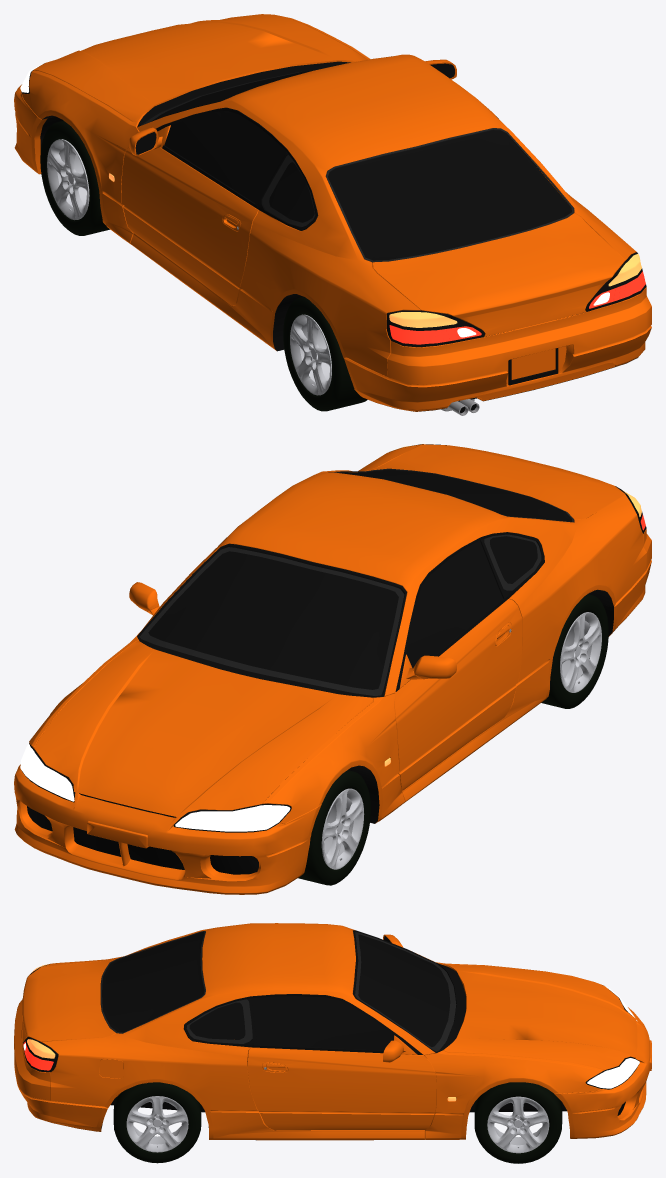
3 views of the same model, one above another, from view 1: azimuth 30°, elevation 25°; view 2: azimuth 150°, elevation 25°; view 3: azimuth 270°, elevation 25° (orthographic). The views are drawn at different scales.
Parts seen in each view (by area): view 1: Nissan Silvia S15_0, Rear Wheels_1, F L Wheel_3; view 2: Nissan Silvia S15_0, F L Wheel_3, Rear Wheels_1; view 3: Nissan Silvia S15_0, F R Wheel_2, Rear Wheels_1.
Boxes of the visible parts, left/top/right/bottom form: Nissan Silvia S15_0: left=14, top=14, right=651, bottom=415; Rear Wheels_1: left=283, top=296, right=367, bottom=411; F L Wheel_3: left=40, top=120, right=109, bottom=235; Nissan Silvia S15_0: left=14, top=444, right=651, bottom=894; F L Wheel_3: left=298, top=770, right=370, bottom=885; Rear Wheels_1: left=541, top=594, right=608, bottom=708; Nissan Silvia S15_0: left=14, top=923, right=651, bottom=1140; F R Wheel_2: left=474, top=1082, right=562, bottom=1163; Rear Wheels_1: left=113, top=1082, right=201, bottom=1163.
Size of the model in its own units: 7.62 by 4.91 by 17.4.
